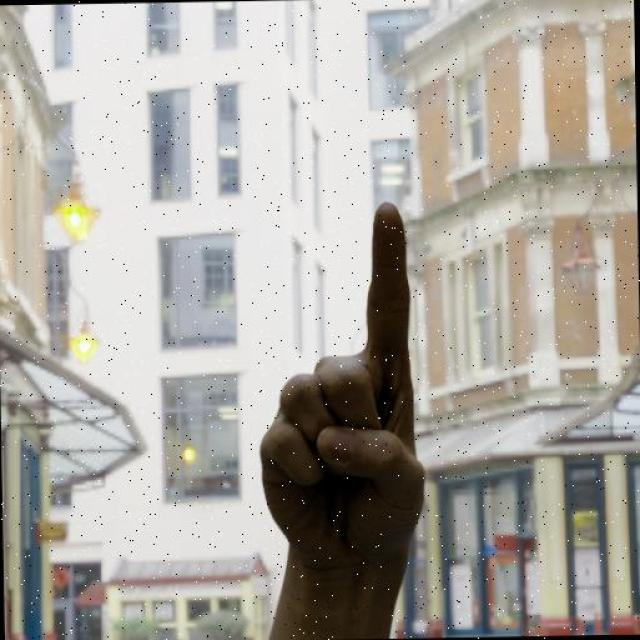Z: (188, 191, 484, 640)
